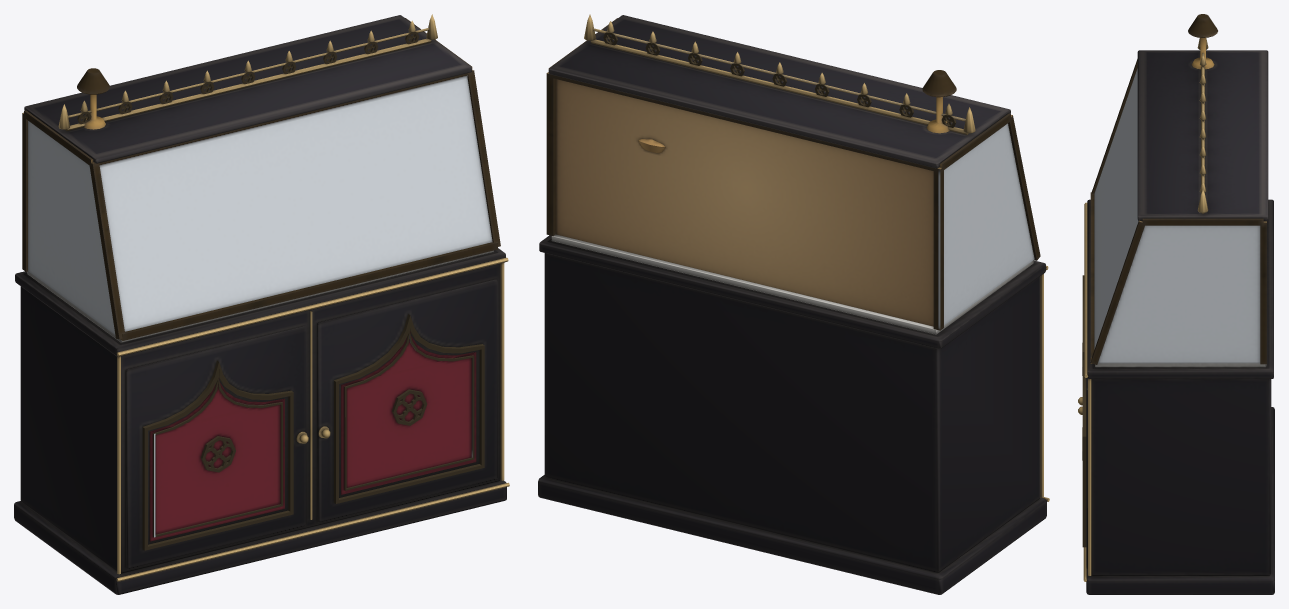
The model's file is BakeryCase.fbx.
3 views of the same model, side by side, from view 1: azimuth 30°, elevation 25°; view 2: azimuth 150°, elevation 25°; view 3: azimuth 270°, elevation 25° (orthographic). The views are drawn at different scales.
Visible parts, largest first — view 1: BakeryCase_Main, BakeryCase_Glass; view 2: BakeryCase_Main, BakeryCase_Glass; view 3: BakeryCase_Main, BakeryCase_Glass.
Part boxes in pixels (x1,y1,x2,y2): BakeryCase_Main: [14, 14, 509, 594]; BakeryCase_Glass: [28, 76, 492, 334]; BakeryCase_Main: [538, 14, 1049, 594]; BakeryCase_Glass: [944, 123, 1034, 325]; BakeryCase_Main: [1078, 14, 1274, 594]; BakeryCase_Glass: [1094, 68, 1260, 363].
Bounding box in the file's own units: 430 × 492 × 207.
